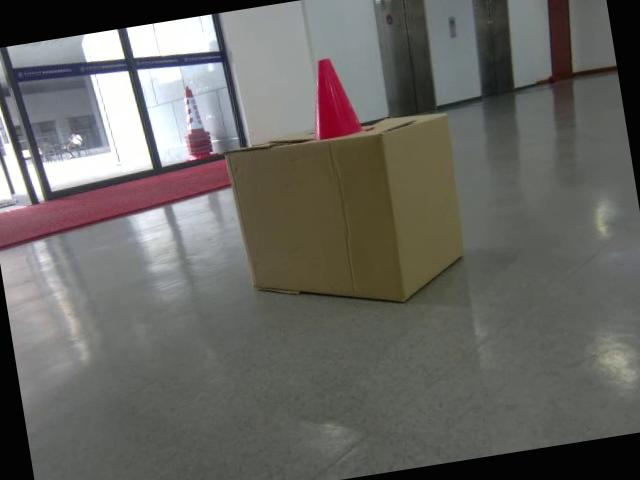red_barrel: (297, 54, 372, 142)
